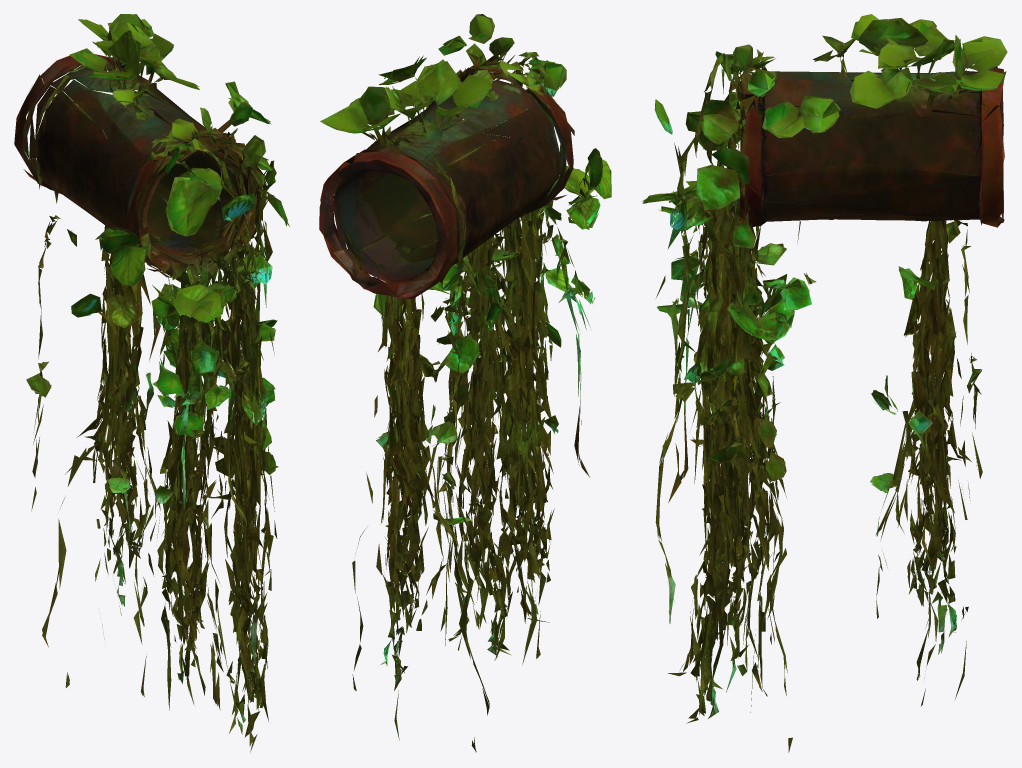
The model's file is glow_creeper.glb.
3 renders of one model, left to right at view 1: azimuth 30°, elevation 25°; view 2: azimuth 150°, elevation 25°; view 3: azimuth 270°, elevation 25°, orthographic. The views are drawn at different scales.
Parts seen in each view (by area): view 1: Mesh_0; view 2: Mesh_0; view 3: Mesh_0.
Part boxes in pixels (bbox=[...]): Mesh_0: bbox=[14, 14, 289, 752]; Mesh_0: bbox=[319, 14, 611, 752]; Mesh_0: bbox=[641, 14, 1007, 752].
Bounding box in the file's own units: 0.5651 × 1.9 × 0.9076.
Materials: 1 (1 with a texture image).
